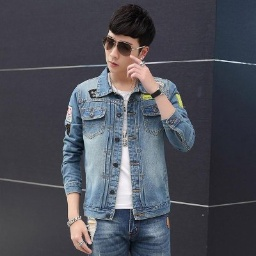face: (103, 3, 156, 73)
